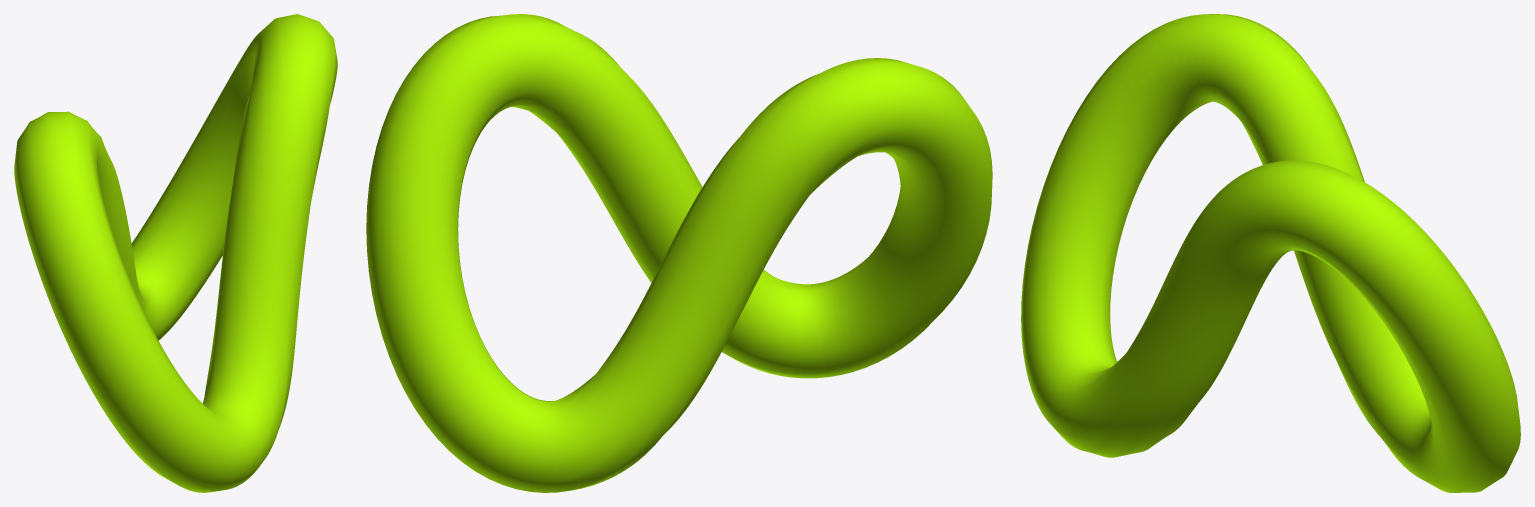
The picture shows the model from 3 angles, left to right: view 1: azimuth 30°, elevation 25°; view 2: azimuth 150°, elevation 25°; view 3: azimuth 270°, elevation 25°; orthographic projection. The views are drawn at different scales.
Visible parts, largest first — view 1: torus; view 2: torus; view 3: torus.
Boxes of the visible parts, <box> form: torus: <box>14,14,337,492</box>; torus: <box>366,14,992,492</box>; torus: <box>1021,14,1520,492</box>.
Size of the model in its own units: 15.18 by 15.18 by 12.47.
